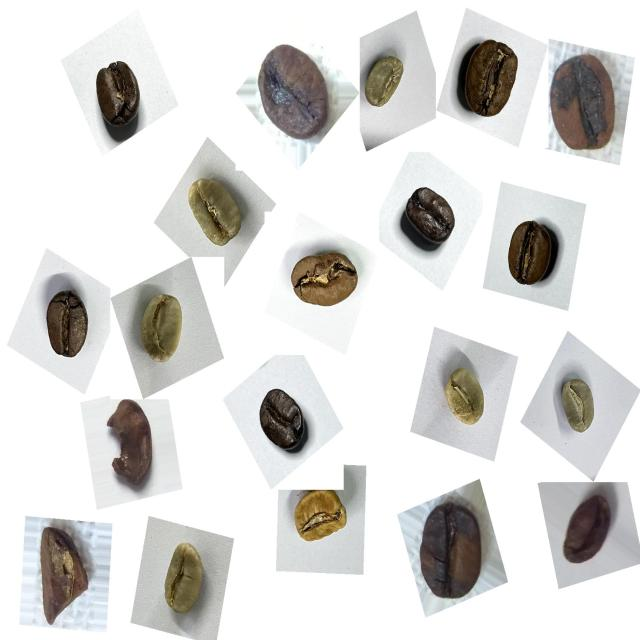bad: (405, 490, 495, 612), (538, 47, 628, 166), (248, 33, 340, 148), (28, 518, 102, 630), (100, 395, 168, 499), (550, 486, 618, 580)
dark: (80, 50, 152, 144), (396, 174, 467, 258), (250, 379, 317, 464)
green: (149, 526, 222, 628), (175, 165, 252, 261), (129, 283, 197, 375), (433, 357, 497, 437), (552, 370, 608, 446), (358, 46, 415, 120)
light: (284, 487, 356, 559)
medium: (449, 28, 531, 132), (282, 240, 368, 324), (496, 211, 566, 297), (35, 281, 99, 368)
